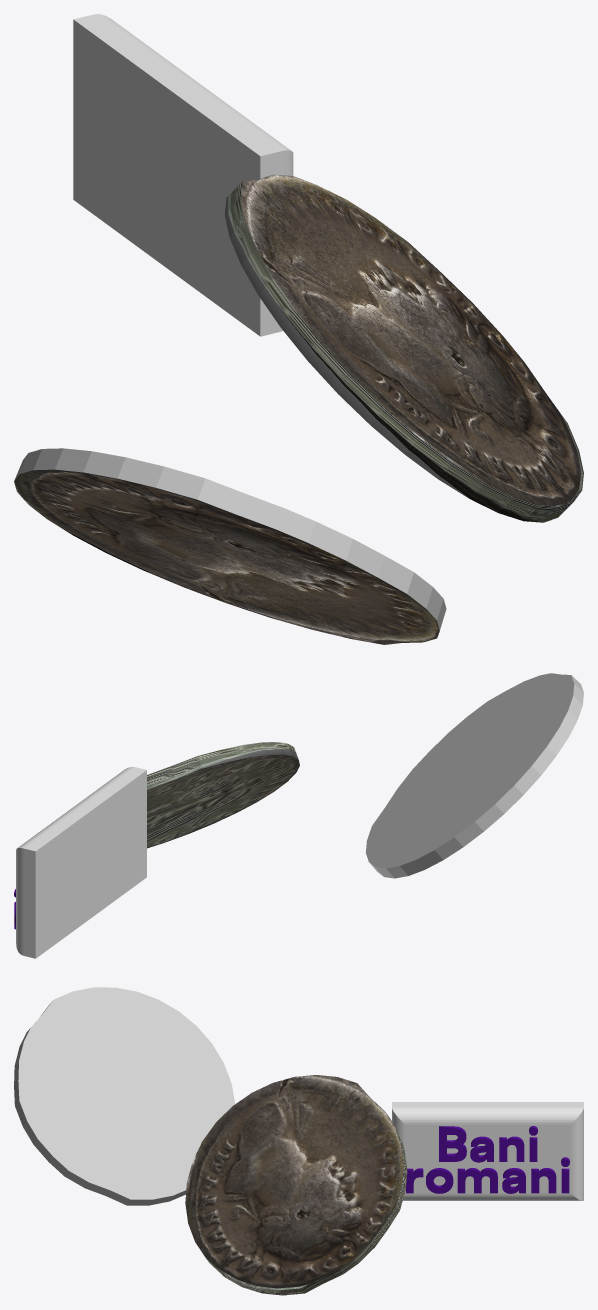
File: Coins.fbx
3 views of the same model, one above another, from view 1: azimuth 30°, elevation 25°; view 2: azimuth 150°, elevation 25°; view 3: azimuth 270°, elevation 25° (orthographic). The views are drawn at different scales.
Parts seen in each view (by area): view 1: Cylinder.004, Cylinder.002, Cube.004; view 2: Cylinder.002, Cube.004, Cylinder.004; view 3: Cylinder.004, Cylinder.002, Cube.004, Text.004.
Boxes of the visible parts, x1,y1,x2,y2 form: Cylinder.004: [225, 174, 583, 522]; Cylinder.002: [14, 448, 446, 644]; Cube.004: [73, 14, 293, 336]; Cylinder.002: [365, 673, 583, 878]; Cube.004: [16, 766, 146, 958]; Cylinder.004: [147, 742, 299, 848]; Cylinder.004: [185, 1075, 407, 1295]; Cylinder.002: [14, 987, 235, 1205]; Cube.004: [392, 1102, 583, 1200]; Text.004: [406, 1126, 569, 1193].
Size of the model in its own units: 3.53 by 1.5 by 5.01.
